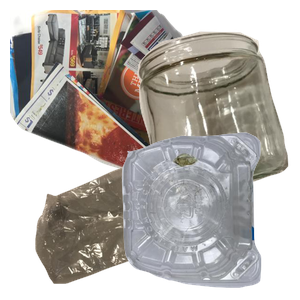glass: (135, 29, 300, 209)
paper: (10, 10, 250, 190)
plastic: (119, 130, 300, 300)
trash: (33, 145, 270, 300)
